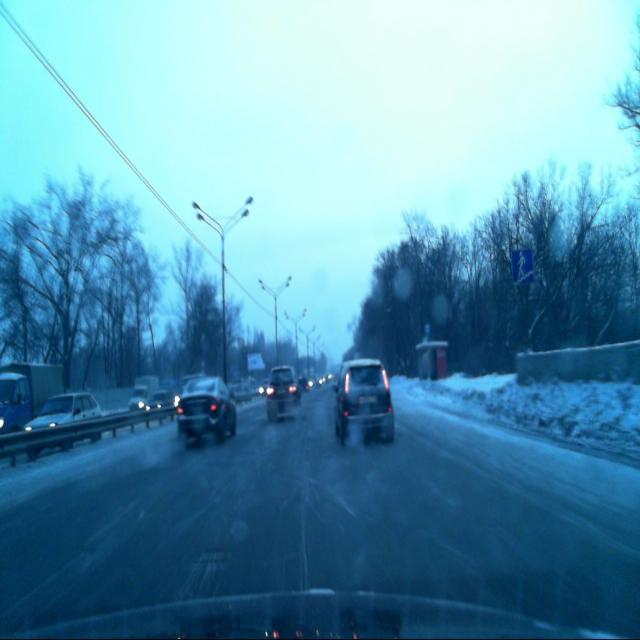road sign: (511, 249, 534, 285)
